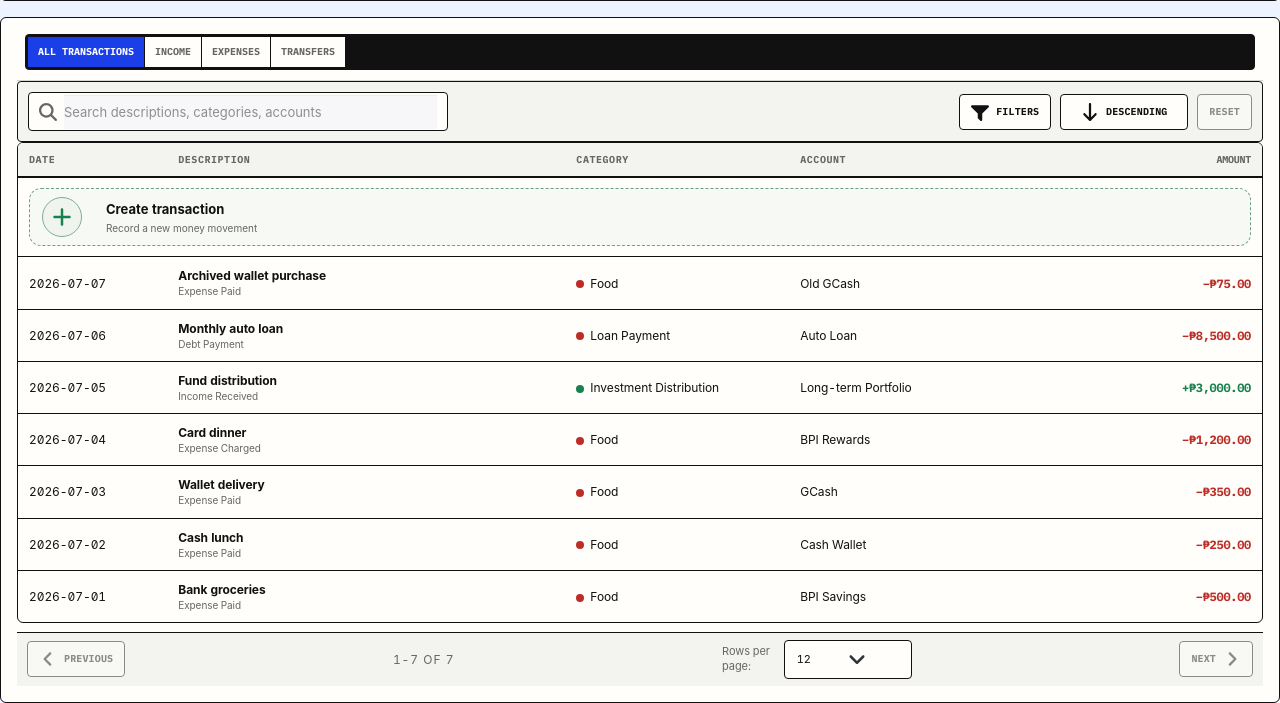
contextual transaction editing › renders the cash editor for Cash lunch
The width and height of the screenshot is (1280, 703).
(page scrolled)
Click the text "Cash lunch". click: (640, 544)
box: x1=18 y1=518 x2=1262 y2=570
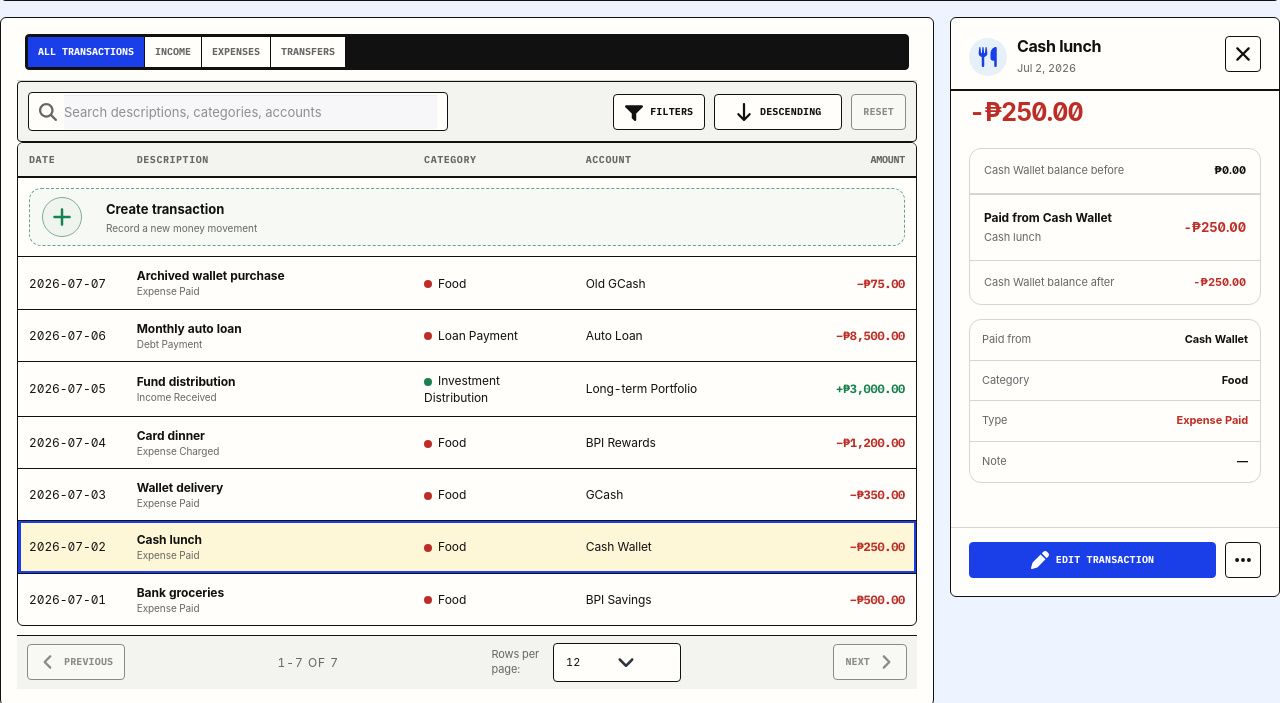
Click the button "Edit Transaction". click: (1092, 560)
box: x1=969 y1=542 x2=1216 y2=578
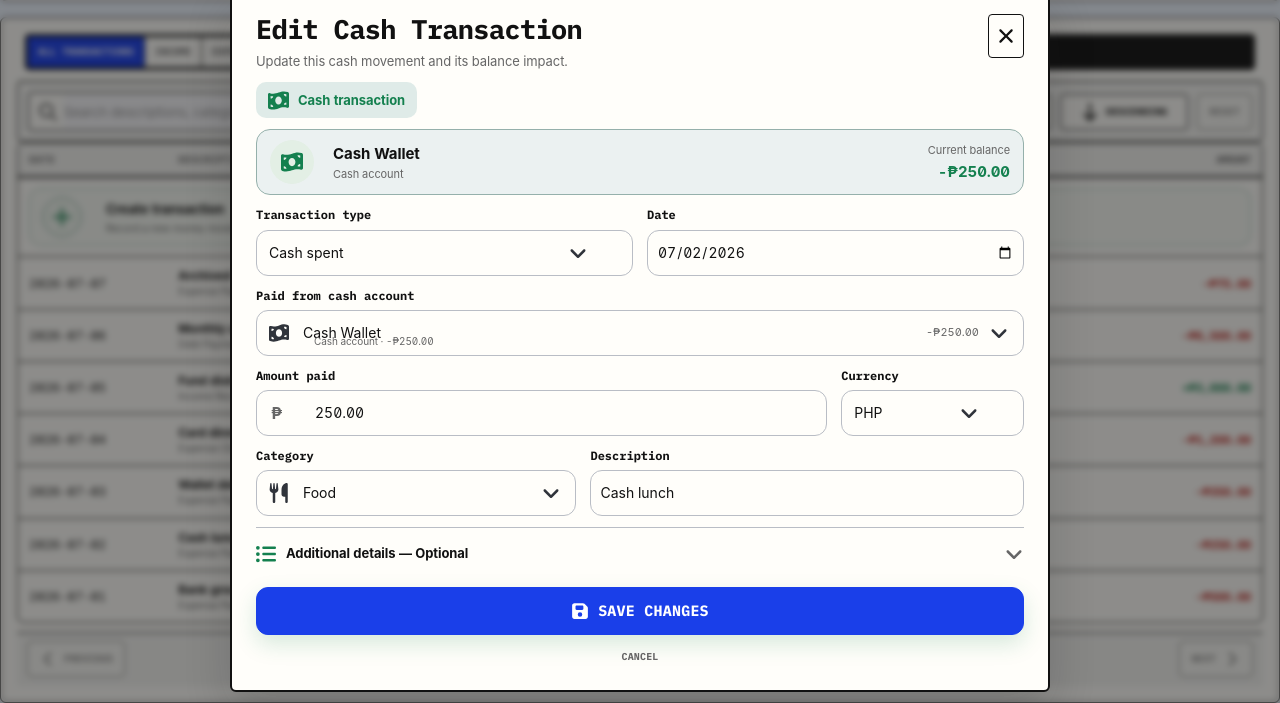
Result: the text "Cash Wallet" next to "Current balance" is shown at x1=333 y1=144 x2=420 y2=162
Result: the heading "Edit Cash Transaction" is shown at x1=256 y1=14 x2=582 y2=45
Result: the text "Cash transaction" is shown at x1=298 y1=91 x2=405 y2=110
